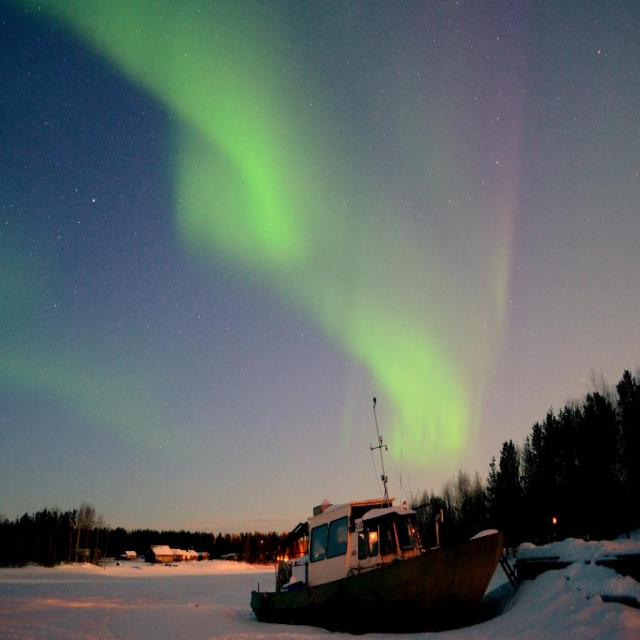Boat: (262, 419, 510, 616)
